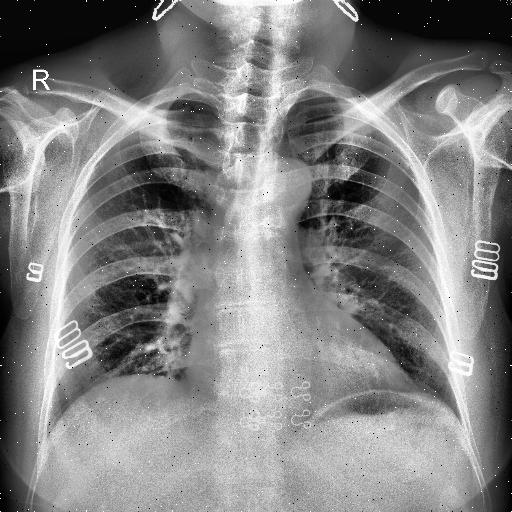0- Aortic enlargement: (256, 152, 312, 228), (244, 156, 312, 212), (263, 158, 312, 220)
3- Cardiomegaly: (182, 346, 418, 408), (186, 335, 420, 396)
